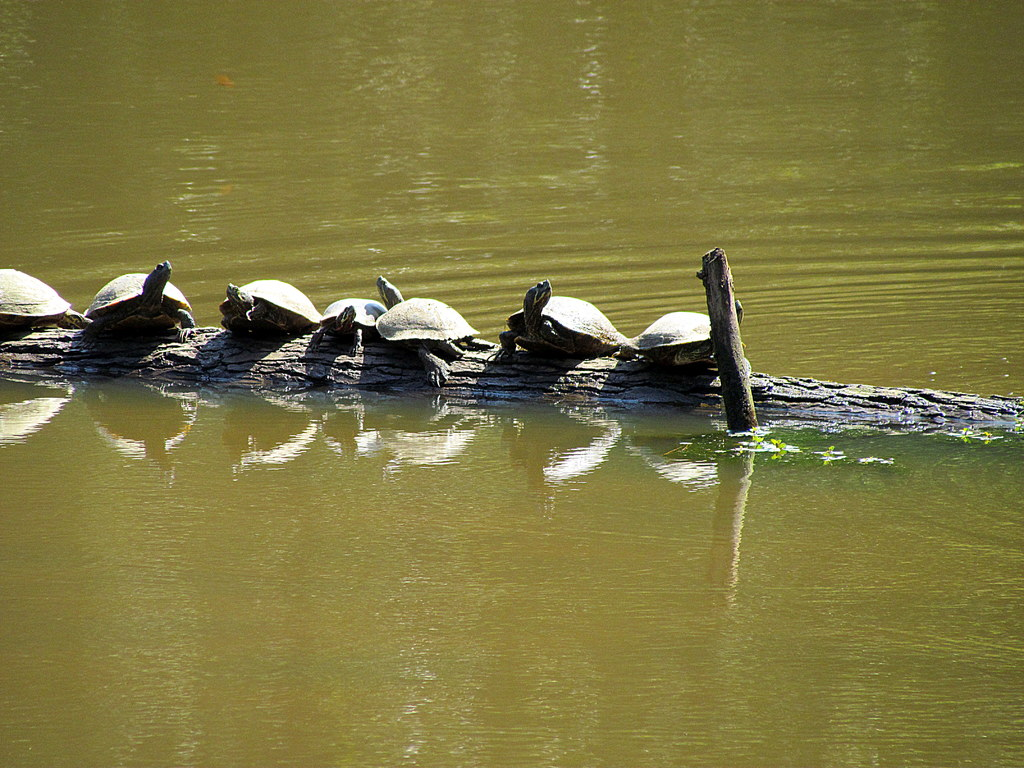Sea turtles: (377, 273, 491, 387), (491, 276, 626, 360), (620, 307, 745, 387), (77, 261, 204, 337), (213, 278, 334, 346), (307, 291, 405, 354), (0, 267, 93, 329)
